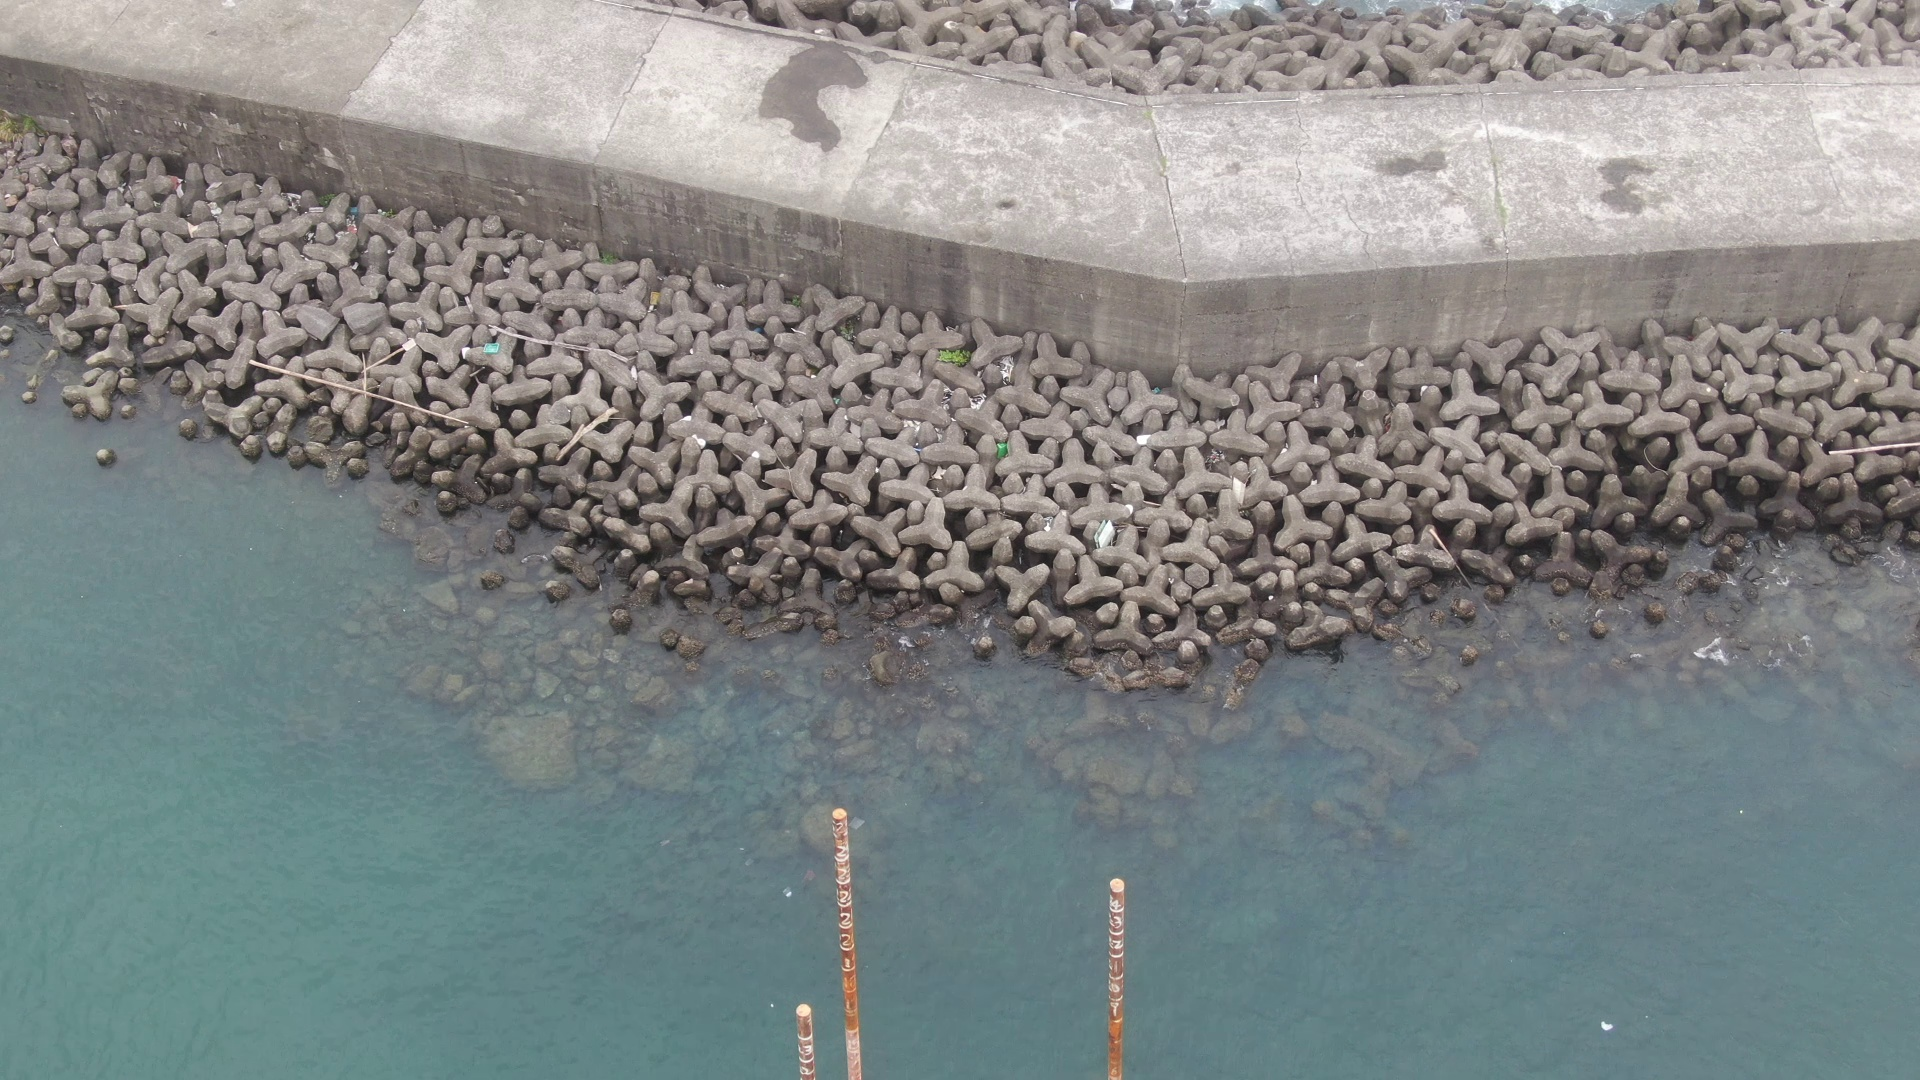garbage: (1091, 508, 1124, 555), (476, 334, 514, 365), (988, 431, 1017, 460)
